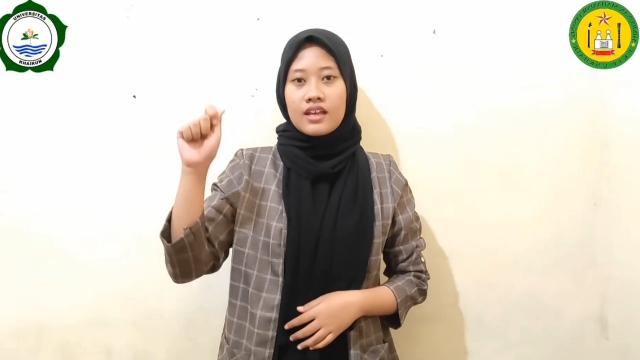A: (174, 103, 232, 173)
